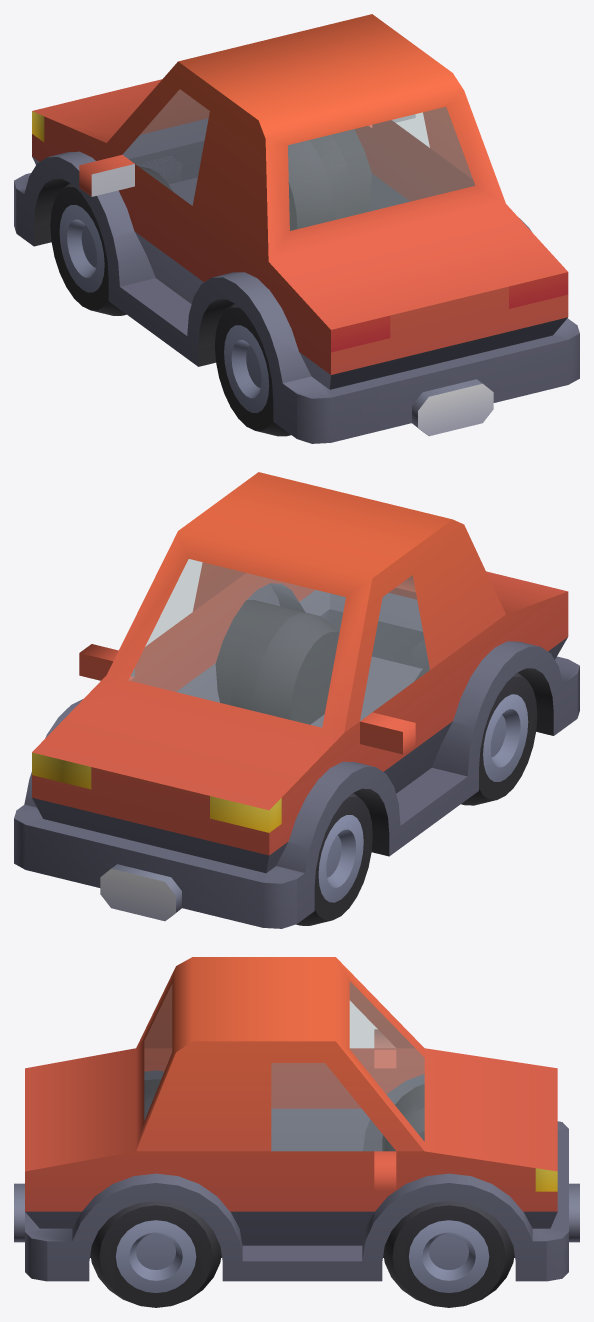
File: sedan.glb
The picture shows the model from 3 angles, top to bottom: view 1: azimuth 30°, elevation 25°; view 2: azimuth 150°, elevation 25°; view 3: azimuth 270°, elevation 25°; orthographic projection. The views are drawn at different scales.
Parts seen in each view (by area): view 1: body, wheel-front-left, wheel-back-left, wheel-front-right; view 2: body, wheel-back-right, wheel-back-left, wheel-front-left; view 3: body, wheel-back-right, wheel-front-right, wheel-front-left.
Part boxes in pixels (bbox=[...]): body: bbox=[14, 14, 579, 443]; wheel-front-left: bbox=[50, 166, 172, 315]; wheel-back-left: bbox=[215, 303, 290, 436]; wheel-front-right: bbox=[288, 136, 356, 230]; body: bbox=[14, 472, 579, 928]; wheel-back-right: bbox=[231, 613, 339, 724]; wheel-back-left: bbox=[414, 663, 537, 805]; wheel-front-left: bbox=[296, 793, 372, 925]; body: bbox=[14, 957, 579, 1281]; wheel-back-right: bbox=[90, 1201, 221, 1307]; wheel-front-right: bbox=[383, 1201, 514, 1307]; wheel-front-left: bbox=[383, 1099, 424, 1151].
Size of the model in its own units: 2.4 by 2.08 by 4.08.
Materials: 2 (1 with a texture image).
